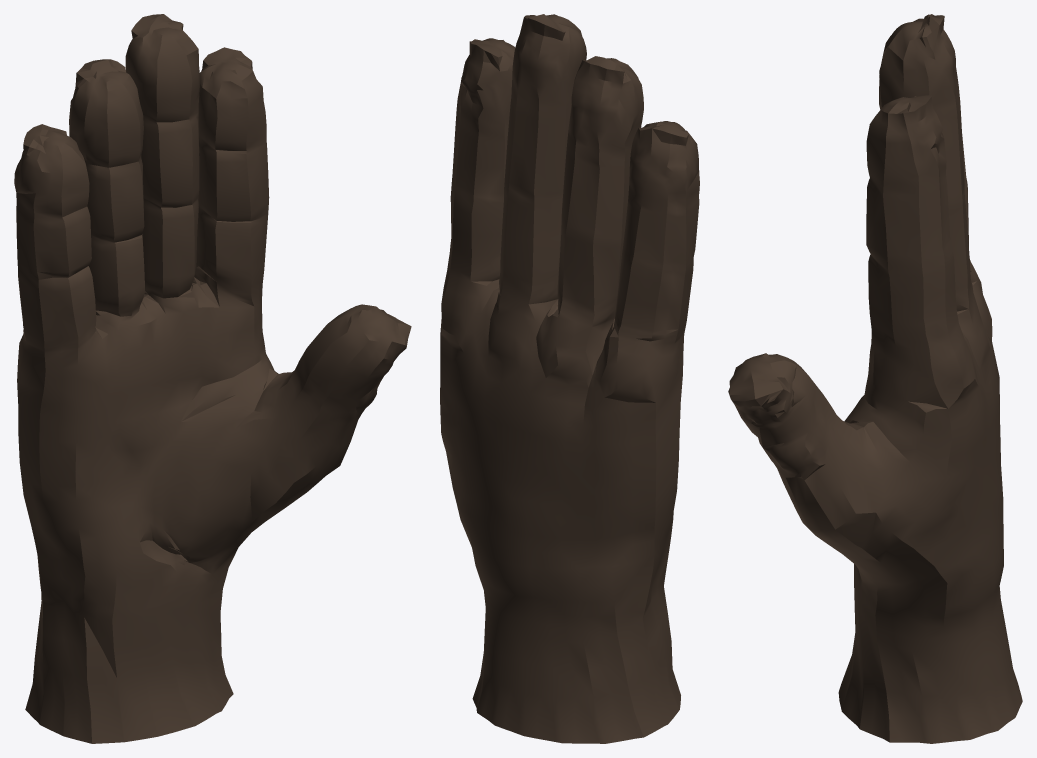
The model's file is glove-hand-v1-female.glb.
3 renders of one model, left to right at view 1: azimuth 30°, elevation 25°; view 2: azimuth 150°, elevation 25°; view 3: azimuth 270°, elevation 25°, orthographic. The views are drawn at different scales.
Parts seen in each view (by area): view 1: gauntlet_outer; view 2: gauntlet_outer; view 3: gauntlet_outer.
Part boxes in pixels (box(x1,y1,x2,y2)): gauntlet_outer: box(14, 14, 411, 743); gauntlet_outer: box(440, 14, 699, 743); gauntlet_outer: box(728, 14, 1022, 743).
Size of the model in its own units: 0.1316 by 0.2727 by 0.1043.
